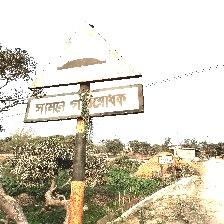Speed-breaker: (26, 23, 145, 122)
